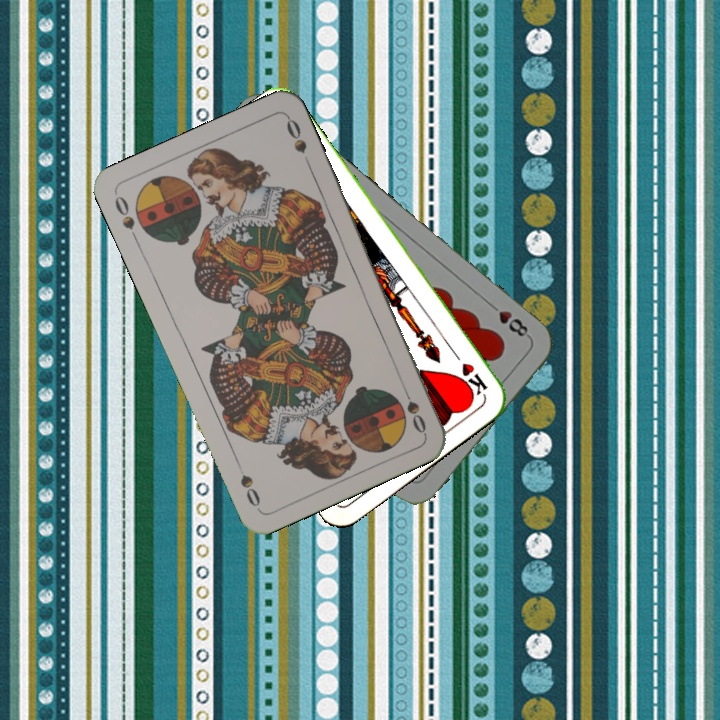H8: (484, 298, 533, 339)
HK: (447, 345, 490, 399)
SO: (397, 380, 429, 437), (110, 191, 142, 246)
